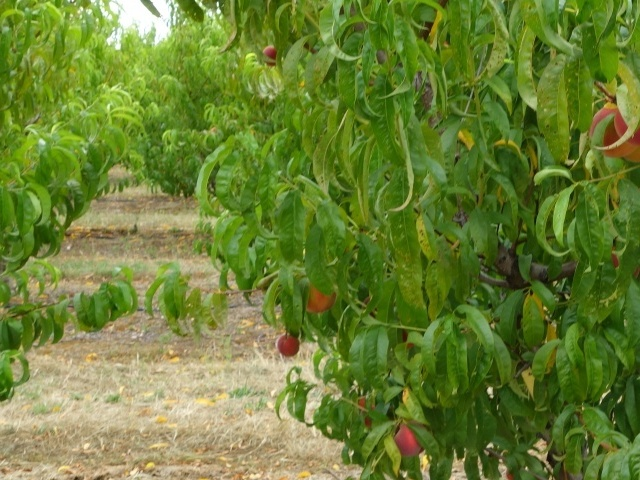peach: (585, 100, 625, 161), (299, 278, 341, 318), (387, 419, 427, 459), (272, 331, 303, 361), (254, 43, 283, 71)
